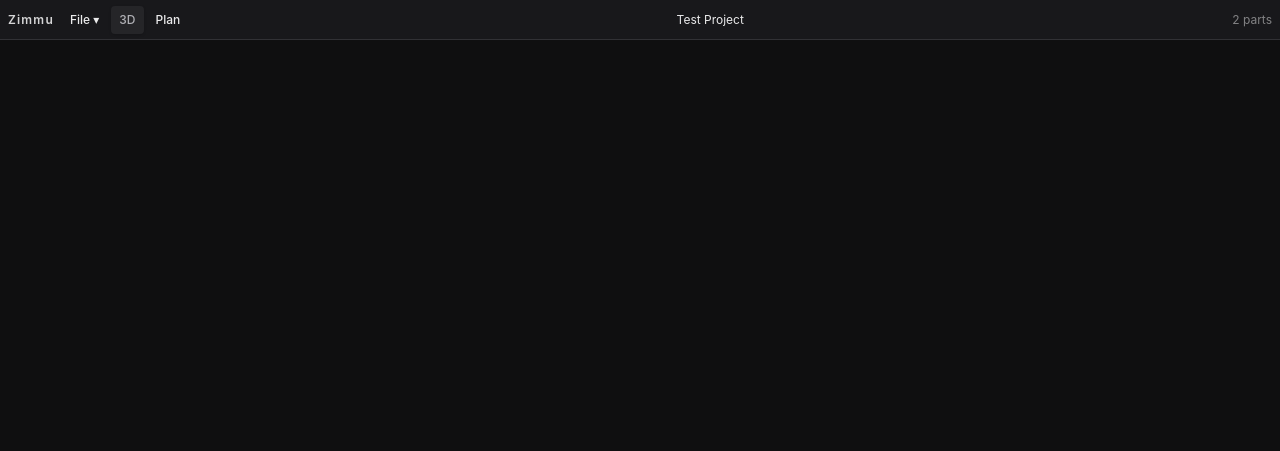
Test case: FileMenu › Undo button shows label in quotes: Undo "Add Board 2"
Click the button "File ▾" at (85, 20), box x1=62 y1=6 x2=107 y2=34
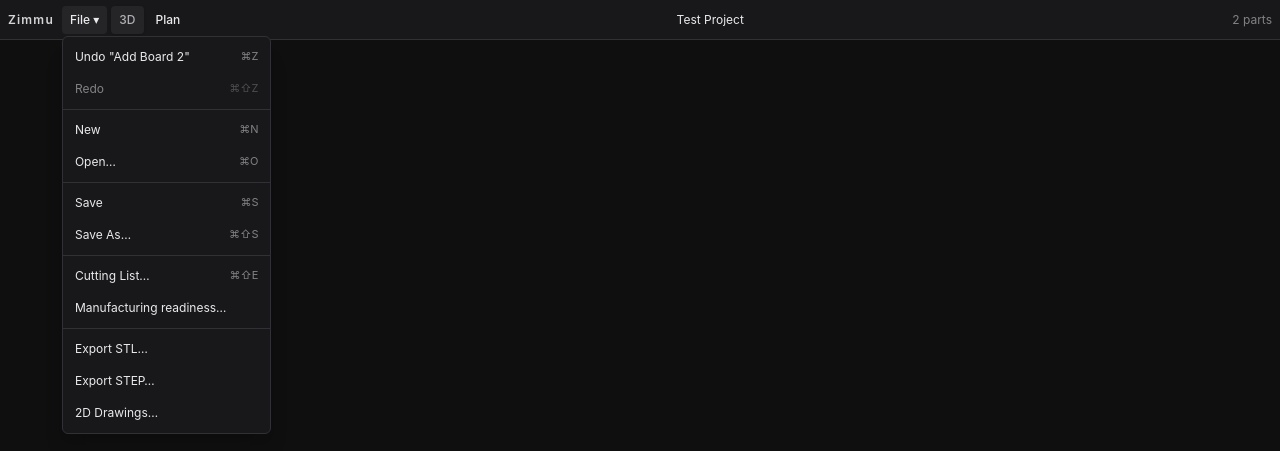
expect the button "Undo \"Add Board 2\" ⌘Z" is shown: met, box x1=63 y1=40 x2=270 y2=72
